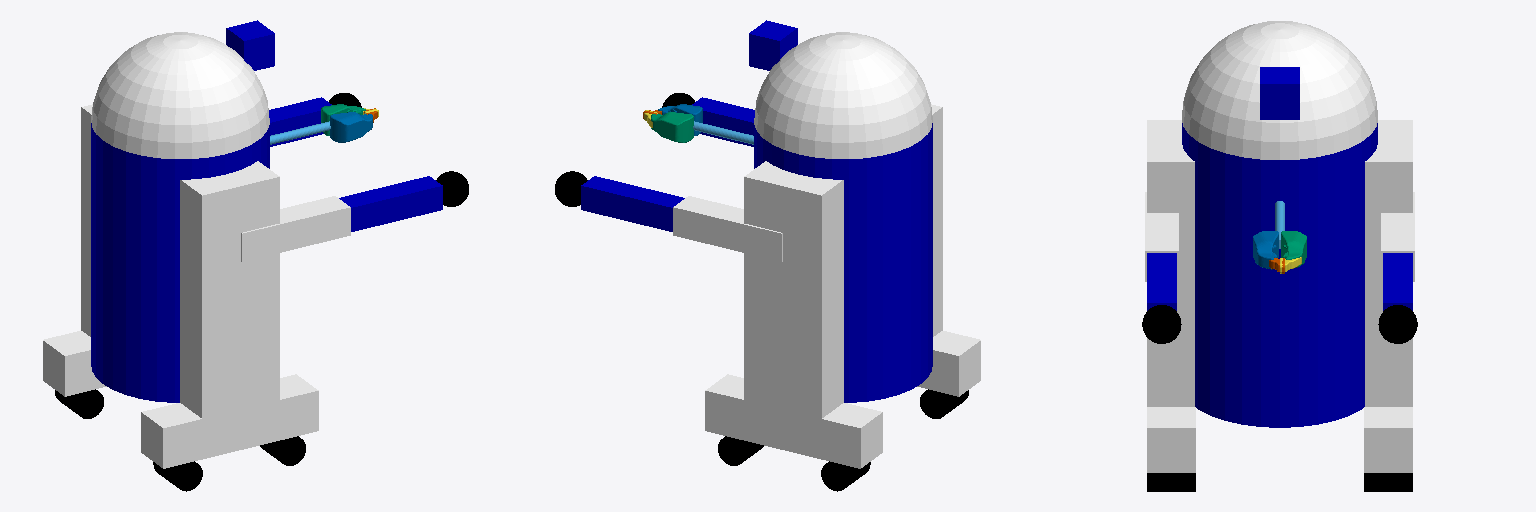
robot.urdf — u2d2_with_arm:
<?xml version="1.0"?>
<robot name="u2d2_with_arm">

  <material name="blue">
    <color rgba="0 0 0.8 1"/>
  </material>
  <material name="black">
    <color rgba="0 0 0 1"/>
  </material>
  <material name="white">
    <color rgba="1 1 1 1"/>
  </material>

  <link name="base_link">
    <visual>
      <geometry>
        <cylinder length="0.6" radius="0.2"/>
      </geometry>
      <material name="blue"/>
    </visual>
    <collision>
        <geometry>
            <cylinder length="0.6" radius="0.2"/>
        </geometry>
    </collision>
    <inertial>
        <mass value="10"/>
        <inertia ixx="1e-3" ixy="0.0" ixz="0.0" iyy="1e-3" iyz="0.0" izz="1e-3" />
    </inertial>
  </link>

  <link name="right_leg">
    <visual>
      <geometry>
        <box size="0.6 0.1 0.2"/>
      </geometry>
      <origin rpy="0 1.57075 0" xyz="0 0 -0.3"/>
      <material name="white"/>
    </visual>
    <collision>
        <origin rpy="0 1.57075 0" xyz="0 0 -0.3"/>
        <geometry>
            <box size="0.6 0.1 0.2"/>
        </geometry>
    </collision>
    <inertial>
        <mass value="10"/>
        <inertia ixx="1e-3" ixy="0.0" ixz="0.0" iyy="1e-3" iyz="0.0" izz="1e-3" />
    </inertial>
  </link>

  <joint name="base_to_right_leg" type="fixed">
    <parent link="base_link"/>
    <child link="right_leg"/>
    <origin xyz="0 -0.22 0.25"/>
  </joint>

  <link name="right_base">
    <visual>
      <geometry>
        <box size="0.4 0.1 0.1"/>
      </geometry>
      <material name="white"/>
    </visual>
    <collision>
        <geometry>
            <box size="0.4 0.1 0.1"/>
        </geometry>
    </collision>
    <inertial>
        <mass value="10"/>
        <inertia ixx="1e-3" ixy="0.0" ixz="0.0" iyy="1e-3" iyz="0.0" izz="1e-3" />
    </inertial>
  </link>

  <joint name="right_base_joint" type="fixed">
    <parent link="right_leg"/>
    <child link="right_base"/>
    <origin xyz="0 0 -0.6"/>
  </joint>

  <link name="right_front_wheel">
    <visual>
      <origin rpy="1.57075 0 0" xyz="0 0 0"/>
      <geometry>
        <cylinder length="0.1" radius="0.035"/>
      </geometry>
      <material name="black"/>
    </visual>
    <collision>
        <origin rpy="1.57075 0 0" xyz="0 0 0"/>
        <geometry>
            <cylinder length="0.1" radius="0.035"/>
        </geometry>
    </collision>
    <inertial>
        <mass value="1"/>
        <inertia ixx="1e-3" ixy="0.0" ixz="0.0" iyy="1e-3" iyz="0.0" izz="1e-3" />
    </inertial>
  </link>
  <joint name="right_front_wheel_joint" type="continuous">
    <axis rpy="0 0 0" xyz="0 1 0"/>
    <parent link="right_base"/>
    <child link="right_front_wheel"/>
    <origin rpy="0 0 0" xyz="0.133333333333 0 -0.085"/>
  </joint>

  <link name="right_back_wheel">
    <visual>
      <origin rpy="1.57075 0 0" xyz="0 0 0"/>
      <geometry>
        <cylinder length="0.1" radius="0.035"/>
      </geometry>
      <material name="black"/>
    </visual>
    <collision>
        <origin rpy="1.57075 0 0" xyz="0 0 0"/>
        <geometry>
            <cylinder length="0.1" radius="0.035"/>
        </geometry>
    </collision>
    <inertial>
        <mass value="1"/>
        <inertia ixx="1e-3" ixy="0.0" ixz="0.0" iyy="1e-3" iyz="0.0" izz="1e-3" />
    </inertial>
  </link>
  <joint name="right_back_wheel_joint" type="continuous">
    <axis rpy="0 0 0" xyz="0 1 0"/>
    <parent link="right_base"/>
    <child link="right_back_wheel"/>
    <origin rpy="0 0 0" xyz="-0.133333333333 0 -0.085"/>
  </joint>

  <link name="left_leg">
    <visual>
      <geometry>
        <box size="0.6 0.1 0.2"/>
      </geometry>
      <origin rpy="0 1.57075 0" xyz="0 0 -0.3"/>
      <material name="white"/>
    </visual>
    <collision>
        <origin rpy="0 1.57075 0" xyz="0 0 -0.3"/>
        <geometry>
            <box size="0.6 0.1 0.2"/>
        </geometry>
    </collision>
    <inertial>
        <mass value="10"/>
        <inertia ixx="1e-3" ixy="0.0" ixz="0.0" iyy="1e-3" iyz="0.0" izz="1e-3" />
    </inertial>
  </link>

  <joint name="base_to_left_leg" type="fixed">
    <parent link="base_link"/>
    <child link="left_leg"/>
    <origin xyz="0 0.22 0.25"/>
  </joint>

  <link name="left_base">
    <visual>
      <geometry>
        <box size="0.4 0.1 0.1"/>
      </geometry>
      <material name="white"/>
    </visual>
    <collision>
        <geometry>
            <box size="0.4 0.1 0.1"/>
        </geometry>
    </collision>
    <inertial>
        <mass value="10"/>
        <inertia ixx="1e-3" ixy="0.0" ixz="0.0" iyy="1e-3" iyz="0.0" izz="1e-3" />
    </inertial>
  </link>

  <joint name="left_base_joint" type="fixed">
    <parent link="left_leg"/>
    <child link="left_base"/>
    <origin xyz="0 0 -0.6"/>
  </joint>

  <link name="left_front_wheel">
    <visual>
      <origin rpy="1.57075 0 0" xyz="0 0 0"/>
      <geometry>
        <cylinder length="0.1" radius="0.035"/>
      </geometry>
      <material name="black"/>
    </visual>
    <collision>
        <origin rpy="1.57075 0 0" xyz="0 0 0"/>
        <geometry>
            <cylinder length="0.1" radius="0.035"/>
        </geometry>
    </collision>
    <inertial>
        <mass value="1"/>
        <inertia ixx="1e-3" ixy="0.0" ixz="0.0" iyy="1e-3" iyz="0.0" izz="1e-3" />
    </inertial>
  </link>
  <joint name="left_front_wheel_joint" type="continuous">
    <axis rpy="0 0 0" xyz="0 1 0"/>
    <parent link="left_base"/>
    <child link="left_front_wheel"/>
    <origin rpy="0 0 0" xyz="0.133333333333 0 -0.085"/>
  </joint>

  <link name="left_back_wheel">
    <visual>
      <origin rpy="1.57075 0 0" xyz="0 0 0"/>
      <geometry>
        <cylinder length="0.1" radius="0.035"/>
      </geometry>
      <material name="black"/>
    </visual>
    <collision>
        <origin rpy="1.57075 0 0" xyz="0 0 0"/>
        <geometry>
            <cylinder length="0.1" radius="0.035"/>
        </geometry>
    </collision>
    <inertial>
        <mass value="1"/>
        <inertia ixx="1e-3" ixy="0.0" ixz="0.0" iyy="1e-3" iyz="0.0" izz="1e-3" />
    </inertial>
  </link>
  <joint name="left_back_wheel_joint" type="continuous">
    <axis rpy="0 0 0" xyz="0 1 0"/>
    <parent link="left_base"/>
    <child link="left_back_wheel"/>
    <origin rpy="0 0 0" xyz="-0.133333333333 0 -0.085"/>
  </joint>

  <joint name="gripper_extension" type="prismatic">
    <parent link="base_link"/>
    <child link="gripper_pole"/>
    <limit effort="1000" lower="-0.38" upper="0" velocity="0.5"/>
    <origin rpy="0 0 0" xyz="0.19 0 0.2"/>
  </joint>

  <link name="gripper_pole">
    <visual>
      <geometry>
        <cylinder length="0.2" radius="0.01"/>
      </geometry>
      <origin rpy="0 1.57075 0 " xyz="0.1 0 0"/>
    </visual>
    <collision>
        <geometry>
            <cylinder length="0.2" radius="0.01"/>
        </geometry>
        <origin rpy="0 1.57075 0 " xyz="0.1 0 0"/>
    </collision>
    <inertial>
        <mass value="0.05"/>
        <inertia ixx="1e-3" ixy="0.0" ixz="0.0" iyy="1e-3" iyz="0.0" izz="1e-3" />
    </inertial>
  </link>

  <joint name="left_gripper_joint" type="revolute">
    <axis xyz="0 0 1"/>
    <origin rpy="0 0 0" xyz="0.2 0.01 0"/>
    <limit effort="1000.0" lower="0.0" upper="0.548" velocity="0.5"/>
    <parent link="gripper_pole"/>
    <child link="left_gripper"/>
  </joint>

  <link name="left_gripper">
    <visual>
      <origin rpy="0.0 0 0" xyz="0 0 0"/>
      <geometry>
        <mesh filename="package://tf2_basic/meshes/l_finger.dae"/>
      </geometry>
    </visual>
    <collision>
        <geometry>
            <mesh filename="package://tf2_basic/meshes/l_finger.dae"/>
        </geometry>
        <origin rpy="0.0 0 0" xyz="0 0 0"/>
    </collision>
    <inertial>
        <mass value="0.05"/>
        <inertia ixx="1e-3" ixy="0.0" ixz="0.0" iyy="1e-3" iyz="0.0" izz="1e-3" />
    </inertial>
  </link>

  <joint name="left_tip_joint" type="fixed">
    <parent link="left_gripper"/>
    <child link="left_tip"/>
  </joint>

  <link name="left_tip">
    <visual>
      <origin rpy="0.0 0 0" xyz="0.09137 0.00495 0"/>
      <geometry>
        <mesh filename="package://tf2_basic/meshes/l_finger_tip.dae"/>
      </geometry>
    </visual>
    <collision>
        <geometry>
            <mesh filename="package://tf2_basic/meshes/l_finger_tip.dae"/>
        </geometry>
        <origin rpy="0.0 0 0" xyz="0.09137 0.00495 0"/>
    </collision>
    <inertial>
        <mass value="0.05"/>
        <inertia ixx="1e-3" ixy="0.0" ixz="0.0" iyy="1e-3" iyz="0.0" izz="1e-3" />
    </inertial>
  </link>

  <joint name="right_gripper_joint" type="revolute">
    <axis xyz="0 0 -1"/>
    <origin rpy="0 0 0" xyz="0.2 -0.01 0"/>
    <limit effort="1000.0" lower="0.0" upper="0.548" velocity="0.5"/>
    <parent link="gripper_pole"/>
    <child link="right_gripper"/>
  </joint>

  <link name="right_gripper">
    <visual>
      <origin rpy="-3.1415 0 0" xyz="0 0 0"/>
      <geometry>
        <mesh filename="package://tf2_basic/meshes/l_finger.dae"/>
      </geometry>
    </visual>
    <collision>
        <geometry>
            <mesh filename="package://tf2_basic/meshes/l_finger.dae"/>
        </geometry>
        <origin rpy="-3.1415 0 0" xyz="0 0 0"/>
    </collision>
    <inertial>
        <mass value="0.05"/>
        <inertia ixx="1e-3" ixy="0.0" ixz="0.0" iyy="1e-3" iyz="0.0" izz="1e-3" />
    </inertial>
  </link>

  <joint name="right_tip_joint" type="fixed">
    <parent link="right_gripper"/>
    <child link="right_tip"/>
  </joint>

  <link name="right_tip">
    <visual>
      <origin rpy="-3.1415 0 0" xyz="0.09137 0.00495 0"/>
      <geometry>
        <mesh filename="package://tf2_basic/meshes/l_finger_tip.dae"/>
      </geometry>
    </visual>
    <collision>
        <geometry>
            <mesh filename="package://tf2_basic/meshes/l_finger_tip.dae"/>
        </geometry>
        <origin rpy="-3.1415 0 0" xyz="0.09137 0.00495 0"/>
    </collision>
    <inertial>
        <mass value="0.05"/>
        <inertia ixx="1e-3" ixy="0.0" ixz="0.0" iyy="1e-3" iyz="0.0" izz="1e-3" />
    </inertial>
  </link>

  <link name="head">
    <visual>
      <geometry>
        <sphere radius="0.2"/>
      </geometry>
      <material name="white"/>
    </visual>
    <collision>
        <geometry>
            <sphere radius="0.2"/>
        </geometry>
    </collision>
    <inertial>
        <mass value="2"/>
        <inertia ixx="1e-3" ixy="0.0" ixz="0.0" iyy="1e-3" iyz="0.0" izz="1e-3" />
    </inertial>
  </link>
  <joint name="head_swivel" type="continuous">
    <parent link="base_link"/>
    <child link="head"/>
    <axis xyz="0 0 1"/>
    <origin xyz="0 0 0.3"/>
  </joint>

  <link name="box">
    <visual>
      <geometry>
        <box size="0.08 0.08 0.08"/>
      </geometry>
      <material name="blue"/>
    </visual>
    <collision>
        <geometry>
            <box size="0.08 0.08 0.08"/>
        </geometry>
    </collision>
    <inertial>
        <mass value="1"/>
        <inertia ixx="1e-3" ixy="0.0" ixz="0.0" iyy="1e-3" iyz="0.0" izz="1e-3" />
    </inertial>
  </link>

  <joint name="tobox" type="fixed">
    <parent link="head"/>
    <child link="box"/>
    <origin xyz="0.1814 0 0.1414"/>
  </joint>

  <!-- 오른쪽 팔 -->
  <link name="right_upper_arm">
    <visual>
      <origin xyz="0.14 0 0"/>
      <geometry>
        <box size="0.28 0.07 0.07"/>
      </geometry>
      <material name="white"/>
    </visual>
    <collision>
      <origin xyz="0.14 0 0"/>
      <geometry>
        <box size="0.28 0.07 0.07"/>
      </geometry>
    </collision>
    <inertial>
      <origin xyz="0.14 0 0"/>
      <mass value="0.3"/>
      <inertia
        ixx="0.00025"
        ixy="0.0"
        ixz="0.0"
        iyy="0.0021"
        iyz="0.0"
        izz="0.0021"/>
    </inertial>
  </link>

  <joint name="right_shoulder_joint" type="revolute">
    <parent link="base_link"/>
    <child link="right_upper_arm"/>
    <origin xyz="0 -0.24 0.10"/>
    <axis xyz="0 1 0"/>
    <limit lower="-1.3" upper="1.3" effort="10.0" velocity="2.0"/>
  </joint>

  <!-- 팔꿈치: Y축을 중심으로 하완을 굽히는 revolute 관절 -->
  <link name="right_lower_arm">
    <visual>
      <origin xyz="0.12 0 0"/>
      <geometry>
        <box size="0.24 0.06 0.06"/>
      </geometry>
      <material name="blue"/>
    </visual>
    <collision>
      <origin xyz="0.12 0 0"/>
      <geometry>
        <box size="0.24 0.06 0.06"/>
      </geometry>
    </collision>
    <inertial>
      <origin xyz="0.12 0 0"/>
      <mass value="0.2"/>
      <inertia
        ixx="0.00012"
        ixy="0.0"
        ixz="0.0"
        iyy="0.00098"
        iyz="0.0"
        izz="0.00098"/>
    </inertial>
  </link>

  <joint name="elbow_joint" type="revolute">
    <parent link="right_upper_arm"/>
    <child link="right_lower_arm"/>
    <origin xyz="0.28 0 0"/>
    <axis xyz="0 1 0"/>
    <limit lower="-2.2" upper="2.2" effort="10.0" velocity="2.0"/>
  </joint>

  <link name="right_hand">
    <visual>
      <origin xyz="0.04 0 0"/>
      <geometry>
        <sphere radius="0.04"/>
      </geometry>
      <material name="black"/>
    </visual>
    <collision>
      <origin xyz="0.04 0 0"/>
      <geometry>
        <sphere radius="0.04"/>
      </geometry>
    </collision>
    <inertial>
      <origin xyz="0.04 0 0"/>
      <mass value="0.1"/>
      <inertia
        ixx="0.000064"
        ixy="0.0"
        ixz="0.0"
        iyy="0.000064"
        iyz="0.0"
        izz="0.000064"/>
    </inertial>
  </link>

  <joint name="right_hand_joint" type="fixed">
    <parent link="right_lower_arm"/>
    <child link="right_hand"/>
    <origin xyz="0.24 0 0"/>
  </joint>

  <!-- 왼쪽 팔 -->
  <link name="left_upper_arm">
    <visual>
      <origin xyz="0.14 0 0"/>
      <geometry>
        <box size="0.28 0.07 0.07"/>
      </geometry>
      <material name="white"/>
    </visual>
    <collision>
      <origin xyz="0.14 0 0"/>
      <geometry>
        <box size="0.28 0.07 0.07"/>
      </geometry>
    </collision>
    <inertial>
      <origin xyz="0.14 0 0"/>
      <mass value="0.3"/>
      <inertia
        ixx="0.00025"
        ixy="0.0"
        ixz="0.0"
        iyy="0.0021"
        iyz="0.0"
        izz="0.0021"/>
    </inertial>
  </link>

  <joint name="left_shoulder_joint" type="revolute">
    <parent link="base_link"/>
    <child link="left_upper_arm"/>
    <origin xyz="0 0.24 0.10"/>
    <axis xyz="0 1 0"/>
    <limit lower="-1.3" upper="1.3" effort="10.0" velocity="2.0"/>
  </joint>

  <link name="left_lower_arm">
    <visual>
      <origin xyz="0.12 0 0"/>
      <geometry>
        <box size="0.24 0.06 0.06"/>
      </geometry>
      <material name="blue"/>
    </visual>
    <collision>
      <origin xyz="0.12 0 0"/>
      <geometry>
        <box size="0.24 0.06 0.06"/>
      </geometry>
    </collision>
    <inertial>
      <origin xyz="0.12 0 0"/>
      <mass value="0.2"/>
      <inertia
        ixx="0.00012"
        ixy="0.0"
        ixz="0.0"
        iyy="0.00098"
        iyz="0.0"
        izz="0.00098"/>
    </inertial>
  </link>

  <joint name="left_elbow_joint" type="revolute">
    <parent link="left_upper_arm"/>
    <child link="left_lower_arm"/>
    <origin xyz="0.28 0 0"/>
    <axis xyz="0 1 0"/>
    <limit lower="-2.2" upper="2.2" effort="10.0" velocity="2.0"/>
  </joint>

  <link name="left_hand">
    <visual>
      <origin xyz="0.04 0 0"/>
      <geometry>
        <sphere radius="0.04"/>
      </geometry>
      <material name="black"/>
    </visual>
    <collision>
      <origin xyz="0.04 0 0"/>
      <geometry>
        <sphere radius="0.04"/>
      </geometry>
    </collision>
    <inertial>
      <origin xyz="0.04 0 0"/>
      <mass value="0.1"/>
      <inertia
        ixx="0.000064"
        ixy="0.0"
        ixz="0.0"
        iyy="0.000064"
        iyz="0.0"
        izz="0.000064"/>
    </inertial>
  </link>

  <joint name="left_hand_joint" type="fixed">
    <parent link="left_lower_arm"/>
    <child link="left_hand"/>
    <origin xyz="0.24 0 0"/>
  </joint>
</robot>

--- Render facts (derived) ---
Views: 3 orthographic renders of the robot side by side, from view 1: azimuth 30°, elevation 25°; view 2: azimuth 150°, elevation 25°; view 3: azimuth 270°, elevation 25°.
Model u2d2_with_arm with 22 links and 21 joints (6 revolute, 5 continuous, 1 prismatic, 9 fixed), rooted at base_link, posed every joint at zero.
Links seen in each view (by area): view 1: right_leg, base_link, head, right_base, right_upper_arm, right_lower_arm, left_base, left_leg, box, left_lower_arm, right_gripper, right_back_wheel (+4 smaller); view 2: base_link, left_leg, head, left_base, left_upper_arm, left_lower_arm, right_base, right_leg, box, right_lower_arm, left_gripper, left_back_wheel (+4 smaller); view 3: base_link, head, right_leg, left_leg, right_base, left_base, box, right_lower_arm, left_lower_arm, right_upper_arm, left_upper_arm, right_hand (+5 smaller).
Link boxes in pixels (x1,y1,x2,y2): right_leg: [180, 161, 279, 438]; base_link: [91, 123, 269, 402]; head: [91, 32, 269, 158]; right_base: [141, 374, 318, 468]; right_upper_arm: [241, 196, 350, 261]; right_lower_arm: [339, 176, 442, 231]; left_base: [43, 331, 106, 396]; left_leg: [81, 104, 92, 336]; box: [226, 20, 274, 70]; left_lower_arm: [269, 97, 331, 146]; right_gripper: [330, 112, 372, 142]; right_back_wheel: [153, 461, 202, 491]; base_link: [754, 123, 932, 402]; left_leg: [744, 161, 843, 438]; head: [754, 32, 932, 158]; left_base: [705, 374, 882, 468]; left_upper_arm: [673, 196, 782, 261]; left_lower_arm: [581, 176, 684, 231]; right_base: [917, 331, 980, 396]; right_leg: [931, 104, 942, 336]; box: [749, 20, 797, 70]; right_lower_arm: [692, 97, 754, 146]; left_gripper: [651, 112, 693, 142]; left_back_wheel: [821, 461, 870, 491]; base_link: [1182, 123, 1377, 427]; head: [1182, 21, 1377, 159]; right_leg: [1147, 120, 1194, 406]; left_leg: [1365, 120, 1412, 406]; right_base: [1147, 407, 1195, 472]; left_base: [1364, 407, 1412, 472]; box: [1260, 67, 1299, 119]; right_lower_arm: [1147, 253, 1176, 310]; left_lower_arm: [1383, 253, 1412, 310]; right_upper_arm: [1145, 192, 1178, 281]; left_upper_arm: [1381, 192, 1414, 281]; right_hand: [1142, 305, 1181, 343].
Size in the robot's own frame: 0.8 by 0.56 by 0.97 metres.
Meshes: 2 distinct files referenced, 4 mesh visuals loaded (2 Collada DAE).
